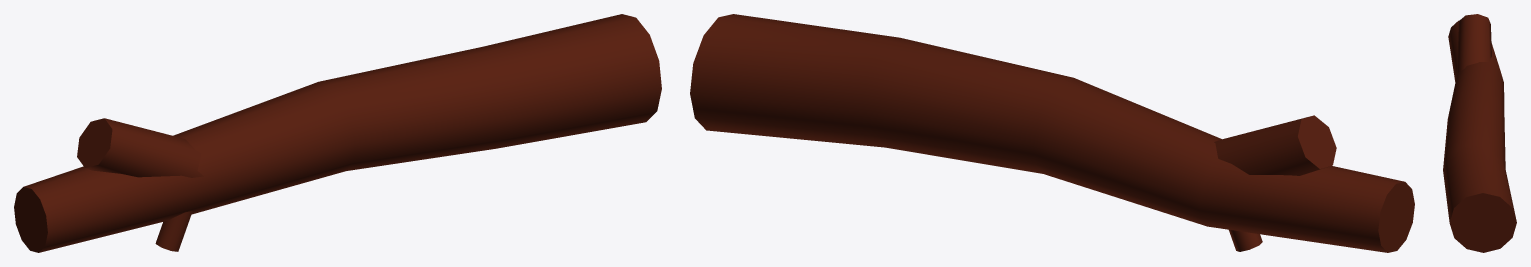
3 views of the same model, side by side, from view 1: azimuth 30°, elevation 25°; view 2: azimuth 150°, elevation 25°; view 3: azimuth 270°, elevation 25° (orthographic). The views are drawn at different scales.
Parts seen in each view (by area): view 1: root_01; view 2: root_01; view 3: root_01.
Part boxes in pixels (x1=…): root_01: x1=14, y1=14, x2=661, y2=252; root_01: x1=690, y1=14, x2=1414, y2=252; root_01: x1=1443, y1=14, x2=1516, y2=252.
Bounding box in the file's own units: 141 × 30.88 × 24.17.
